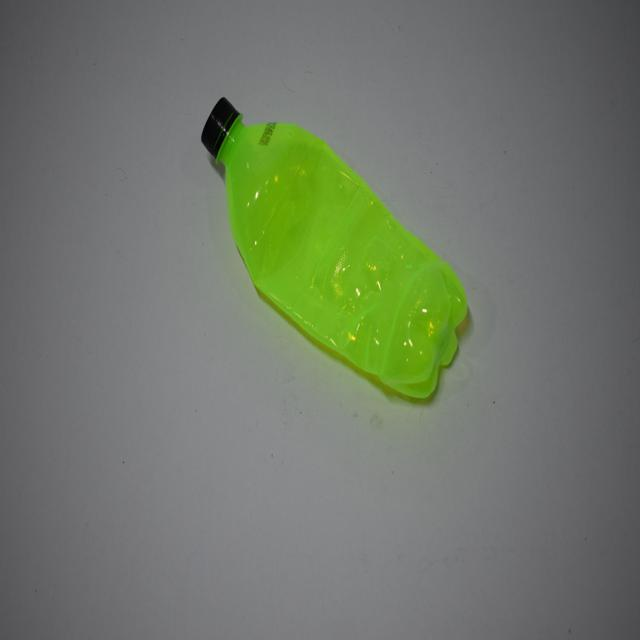bottle: (196, 70, 508, 417)
